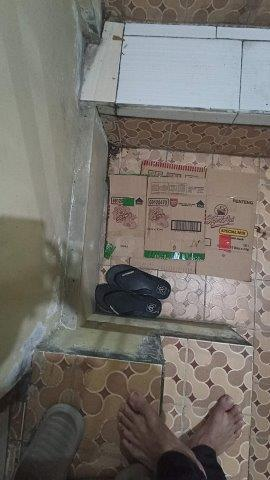kardus: (106, 162, 255, 279)
